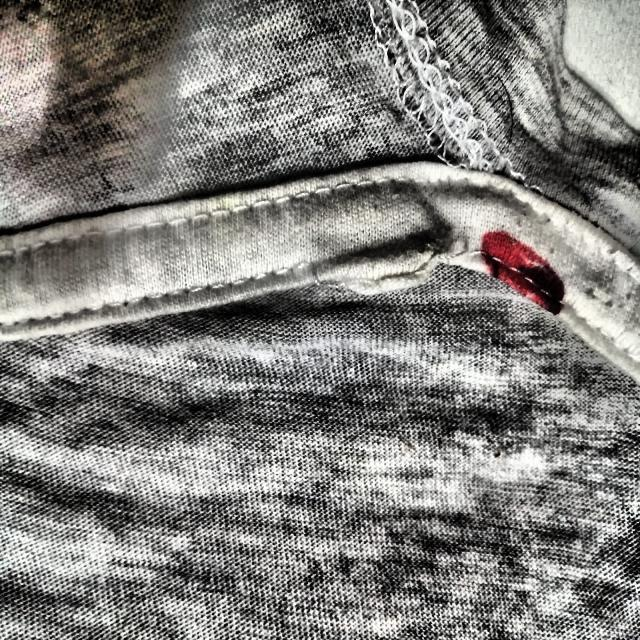gray stitch: (283, 200, 485, 315)
